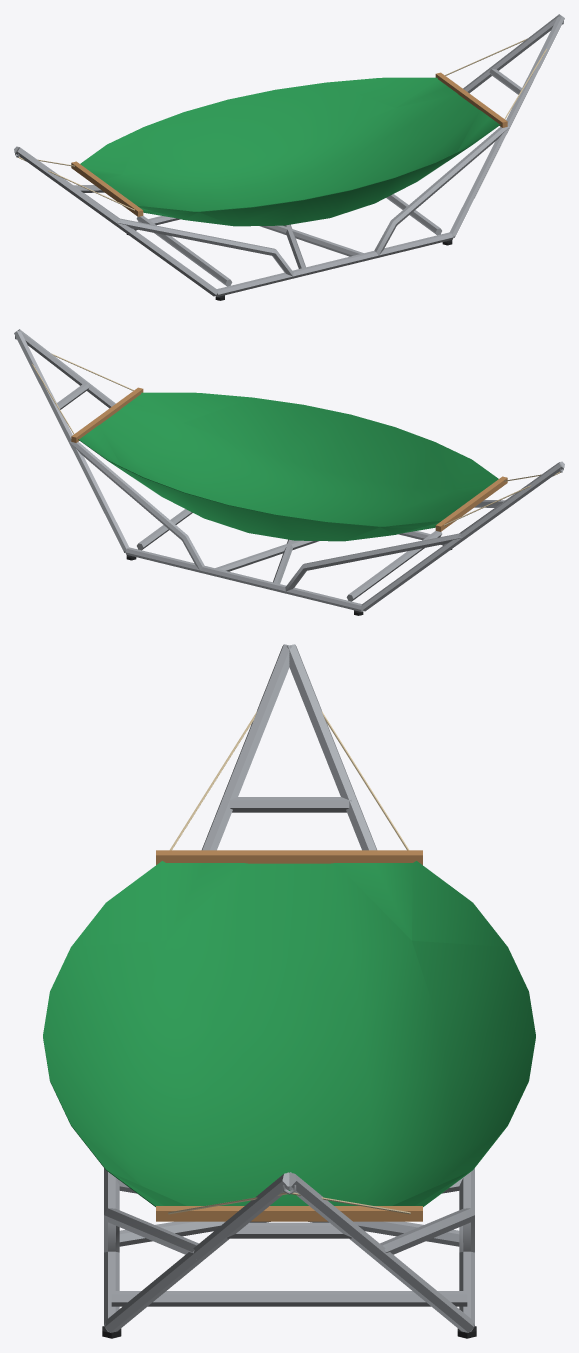
The model's file is vong_xep.far.glb.
3 views of the same model, one above another, from view 1: azimuth 30°, elevation 25°; view 2: azimuth 150°, elevation 25°; view 3: azimuth 270°, elevation 25° (orthographic). The views are drawn at different scales.
Parts seen in each view (by area): view 1: net_vong_xep, vong_xep; view 2: net_vong_xep, vong_xep; view 3: net_vong_xep, vong_xep.
Part boxes in pixels (x1,y1,x2,y2): net_vong_xep: (18,38,546,226); vong_xep: (14,14,564,300); net_vong_xep: (32,353,560,541); vong_xep: (14,329,564,615); net_vong_xep: (43,711,535,1221); vong_xep: (102,644,476,1338).
Size of the model in its own units: 2.56 by 0.7007 by 0.9966.
